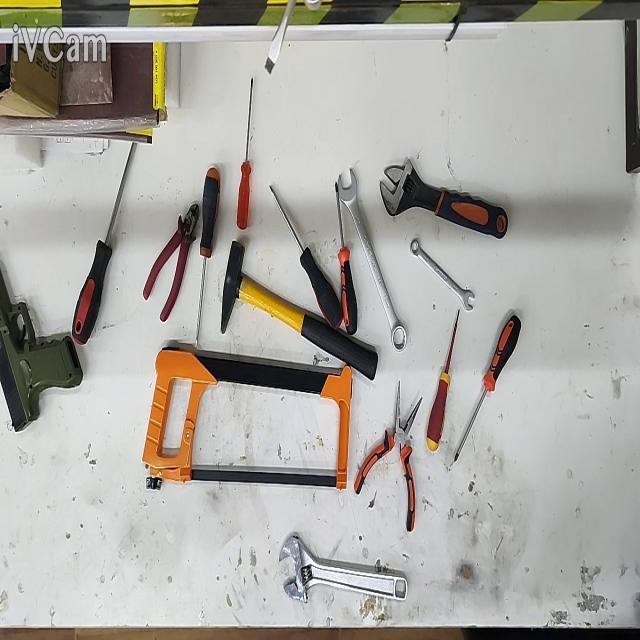Screwdriver: (72, 141, 136, 344), (270, 187, 342, 329), (456, 314, 522, 461), (426, 309, 459, 451), (195, 167, 220, 346), (335, 182, 357, 334), (237, 77, 253, 230)
